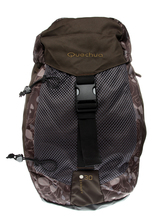bag: (5, 14, 151, 213)
